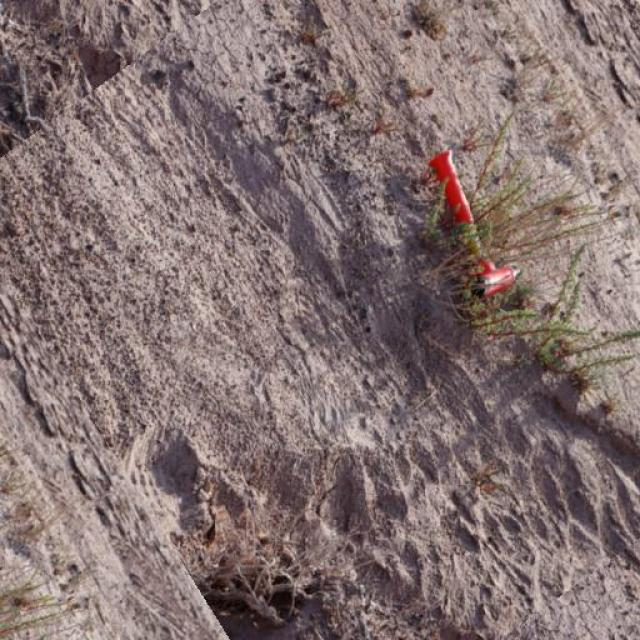mallet: (425, 148, 519, 298)
